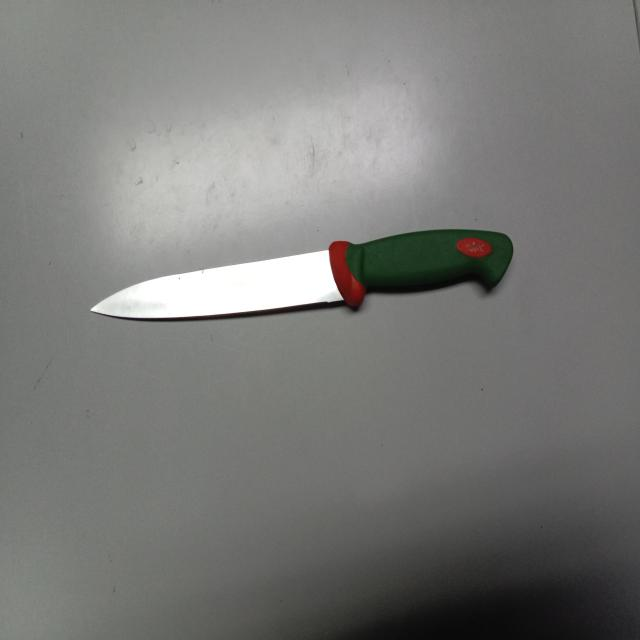Knife: (91, 229, 513, 318)
